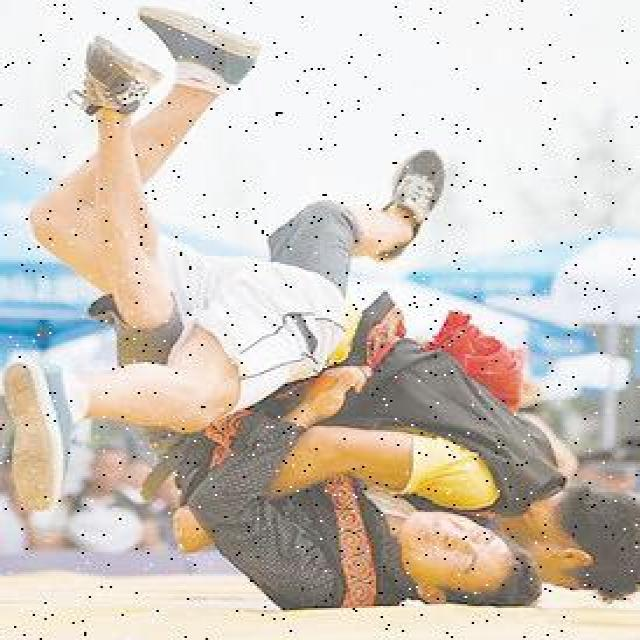fall: (45, 224, 632, 542)
